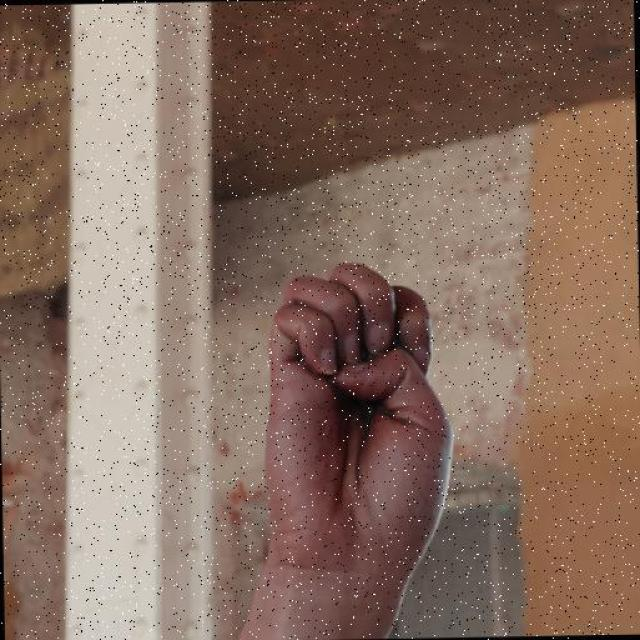E: (262, 256, 460, 575)
